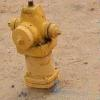a fire hydrant: (9, 0, 61, 94)
